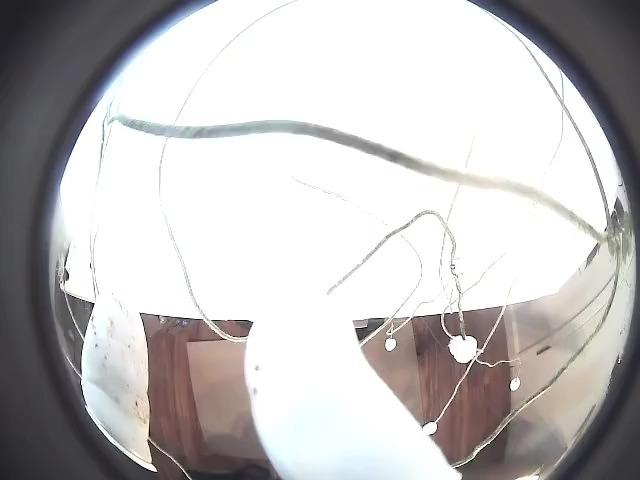gripper: (245, 287, 460, 479), (81, 290, 155, 471)
lense: (0, 0, 196, 479), (483, 0, 639, 247), (478, 4, 637, 216), (553, 249, 639, 479)
